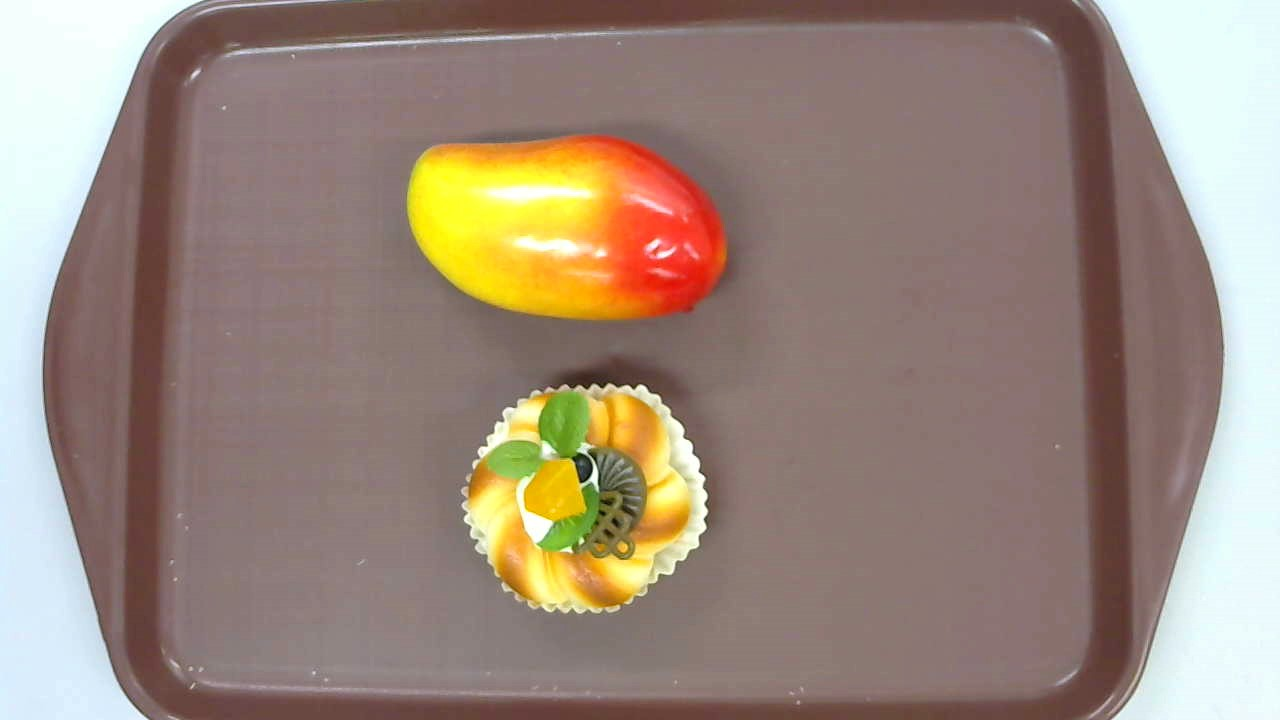fruit tart: (460, 383, 708, 614)
red mango: (407, 134, 728, 322)
